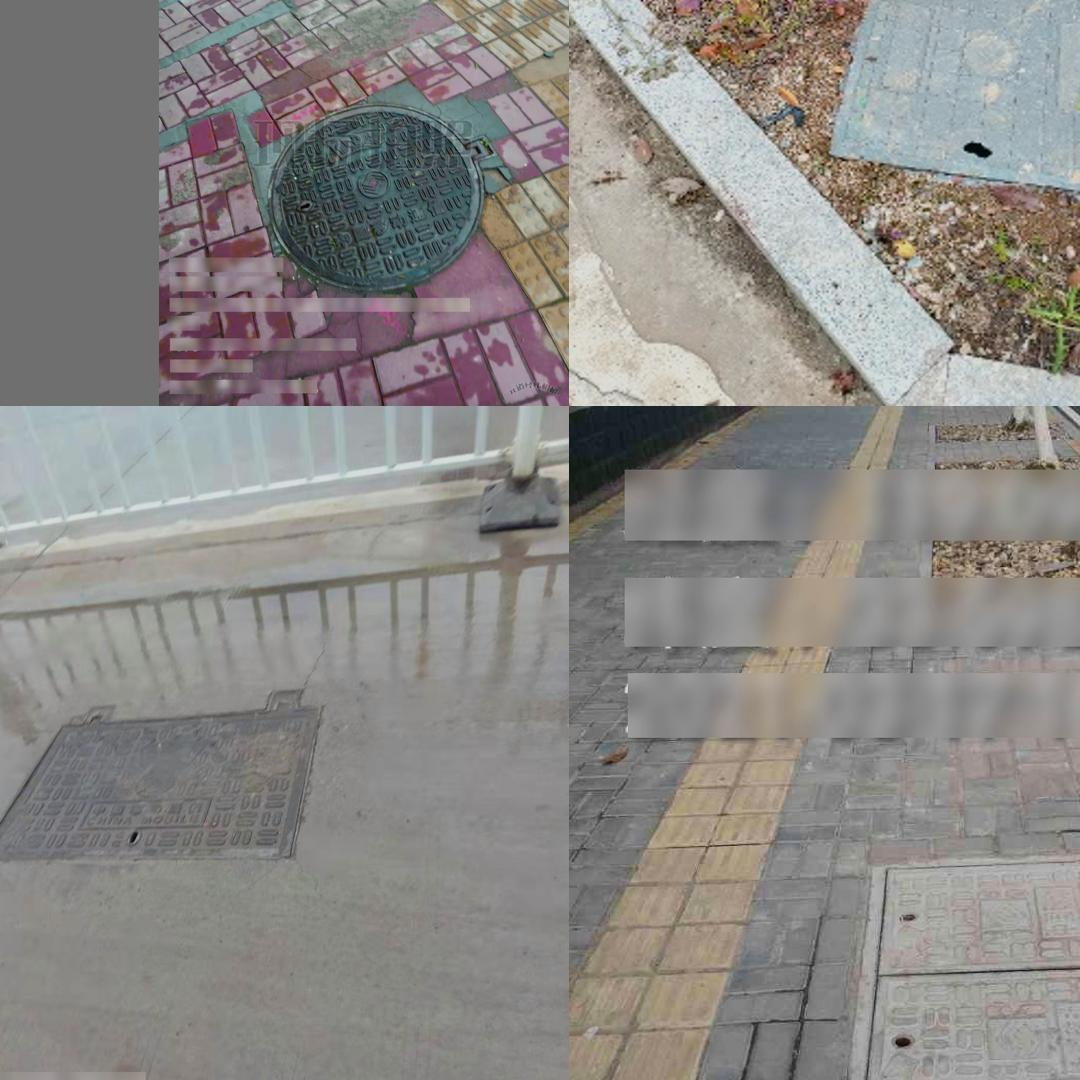good: (0, 691, 325, 862), (840, 850, 1080, 1080), (826, 0, 1080, 193), (267, 103, 499, 292)
